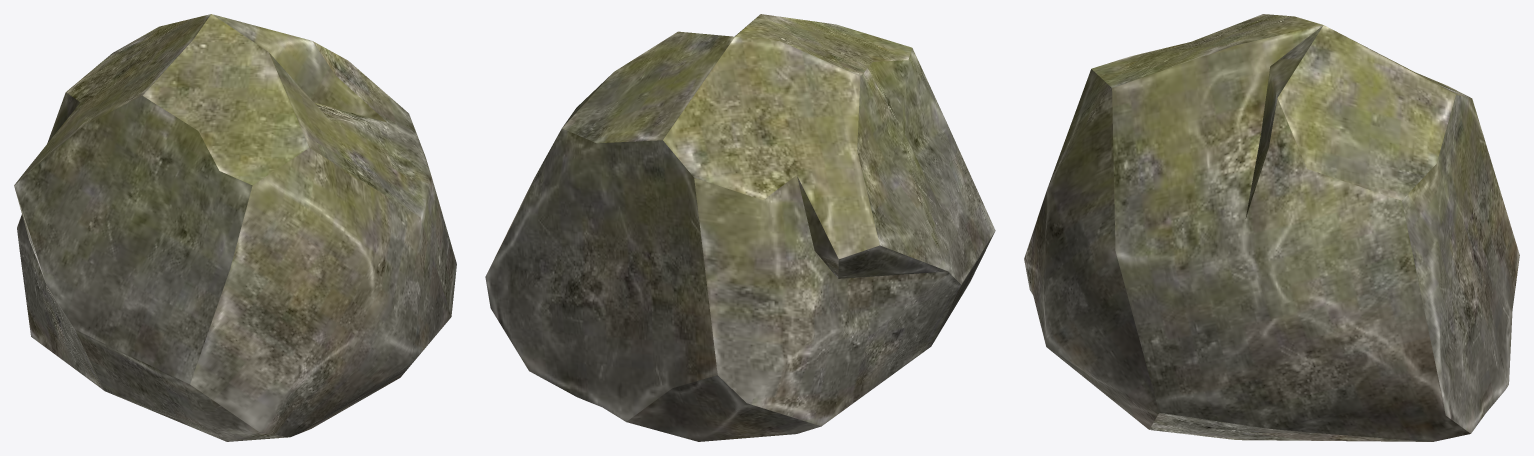
Rendered from Rock_MossyStone.glb.
The picture shows the model from 3 angles, left to right: view 1: azimuth 30°, elevation 25°; view 2: azimuth 150°, elevation 25°; view 3: azimuth 270°, elevation 25°; orthographic projection. The views are drawn at different scales.
Visible parts, largest first — view 1: Rock_MossyStone; view 2: Rock_MossyStone; view 3: Rock_MossyStone.
Part boxes in pixels (box(x1,y1,x2,y2)): Rock_MossyStone: box(14, 14, 456, 441); Rock_MossyStone: box(485, 14, 995, 441); Rock_MossyStone: box(1024, 14, 1519, 441).
Size of the model in its own units: 0.9513 by 0.8154 by 1.
Materials: 1 (1 with a texture image).
